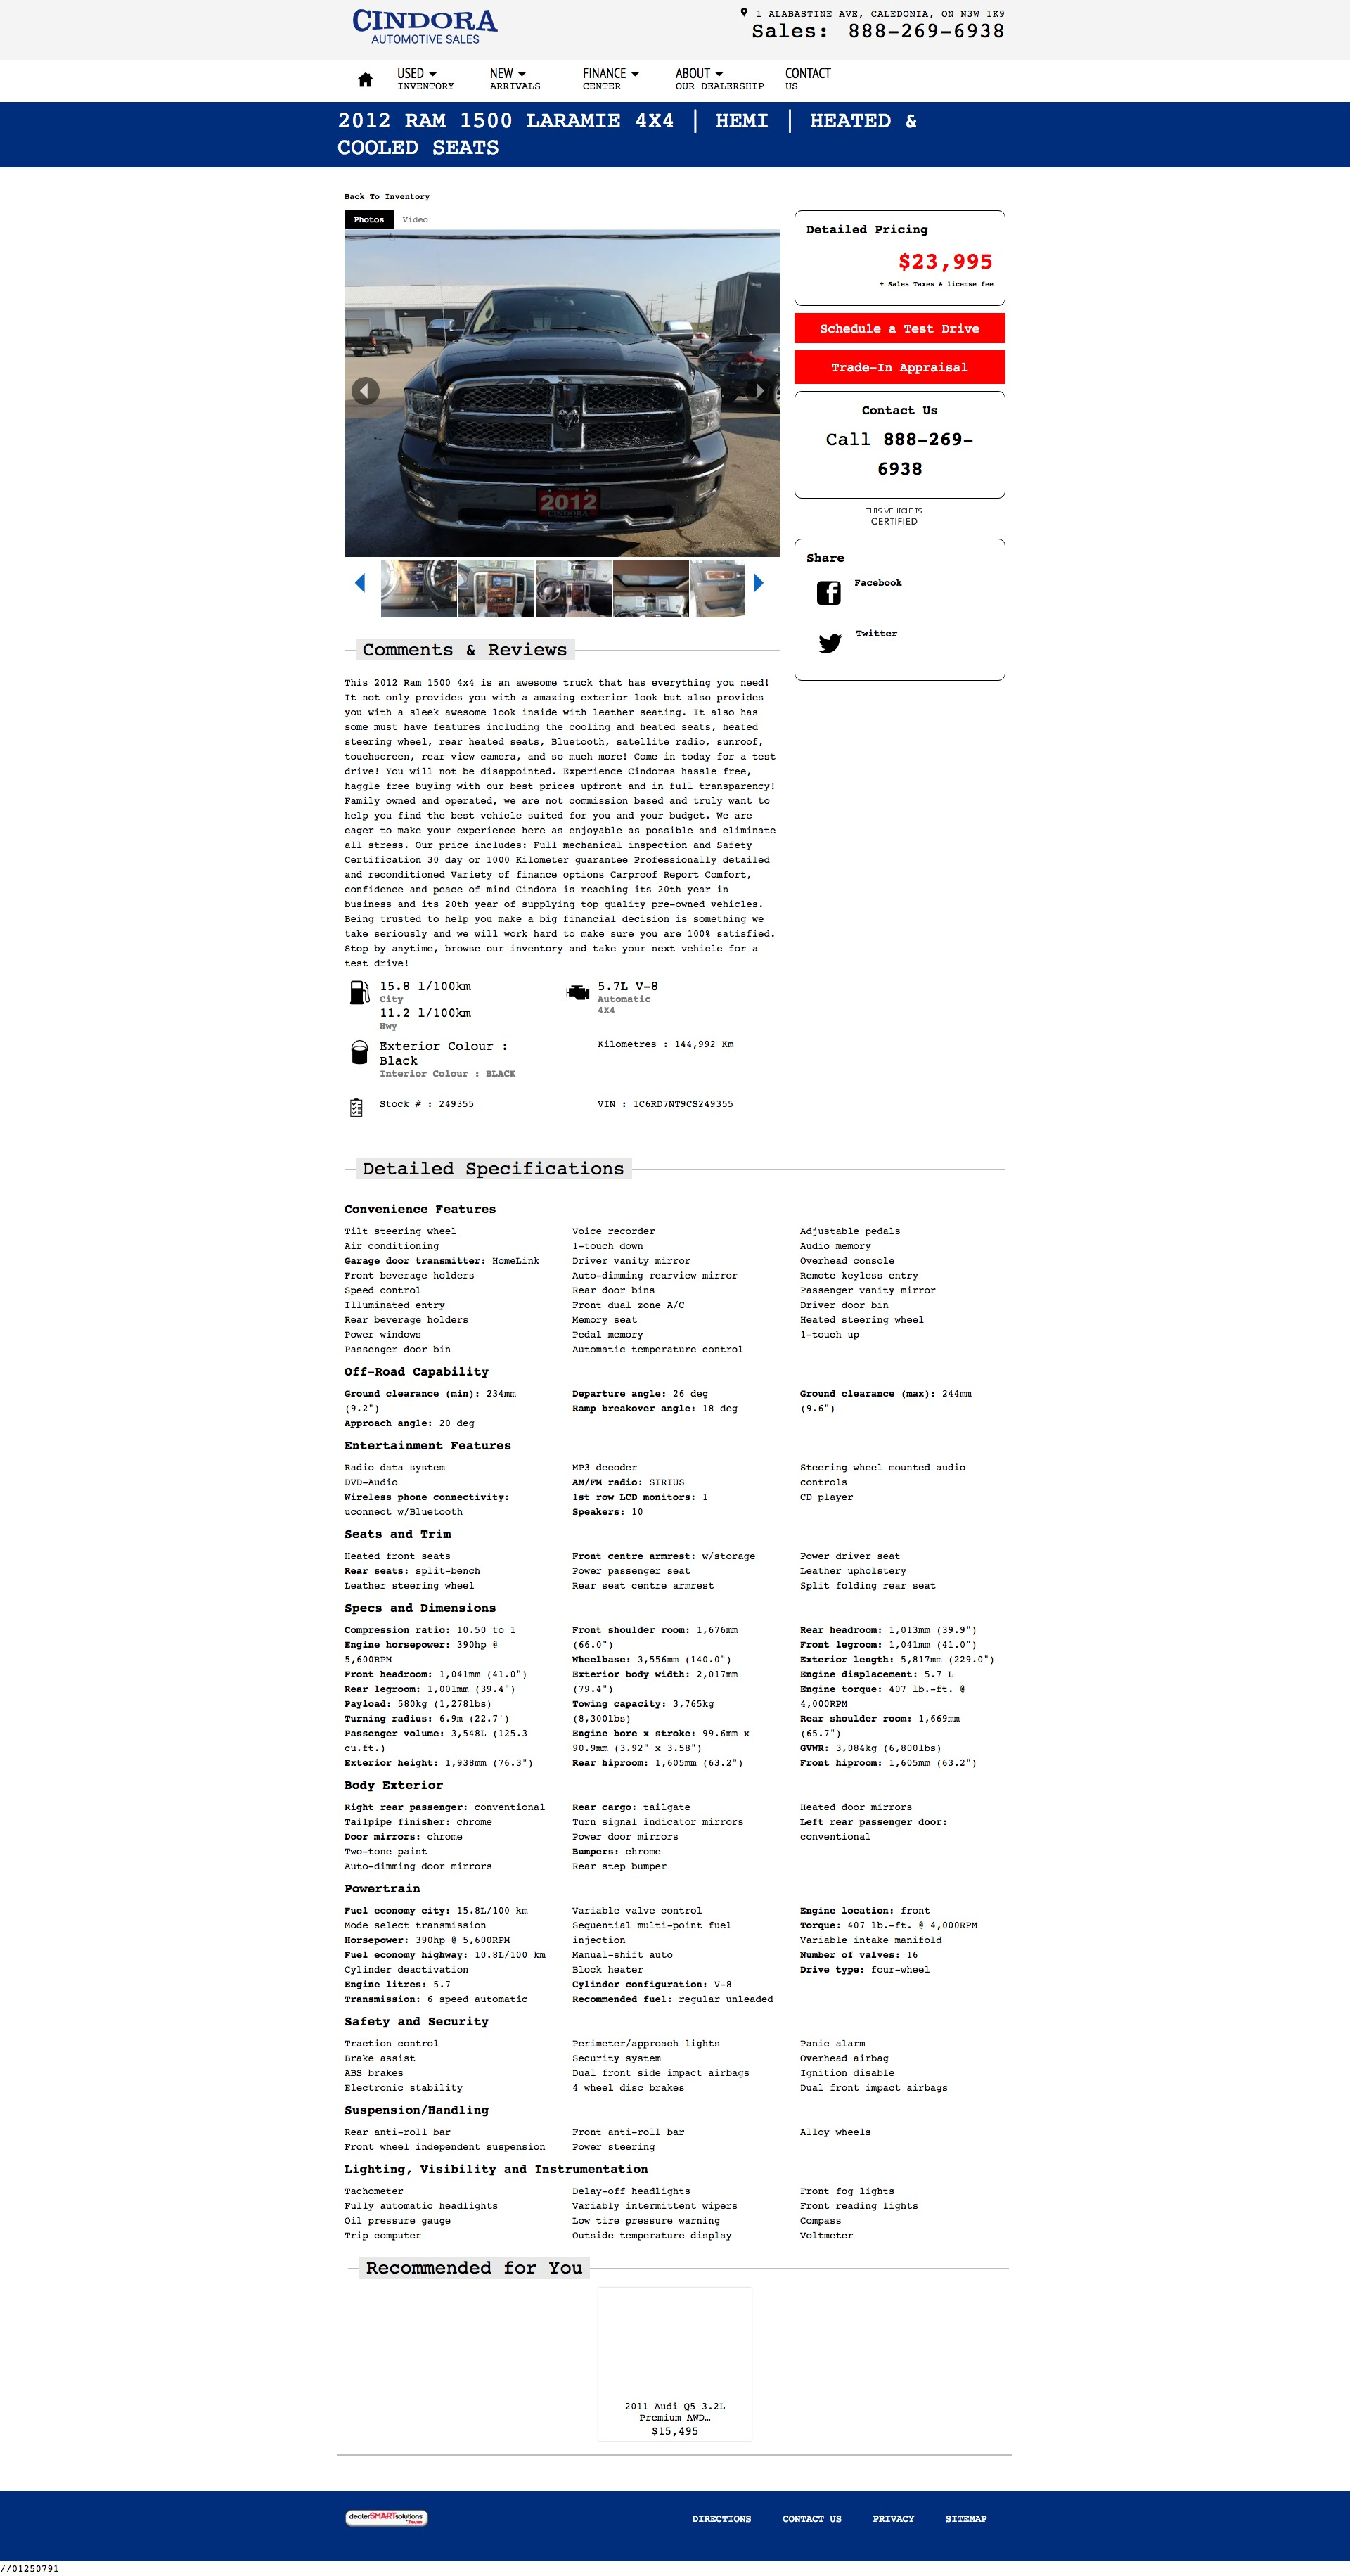car: (752, 572, 766, 593)
